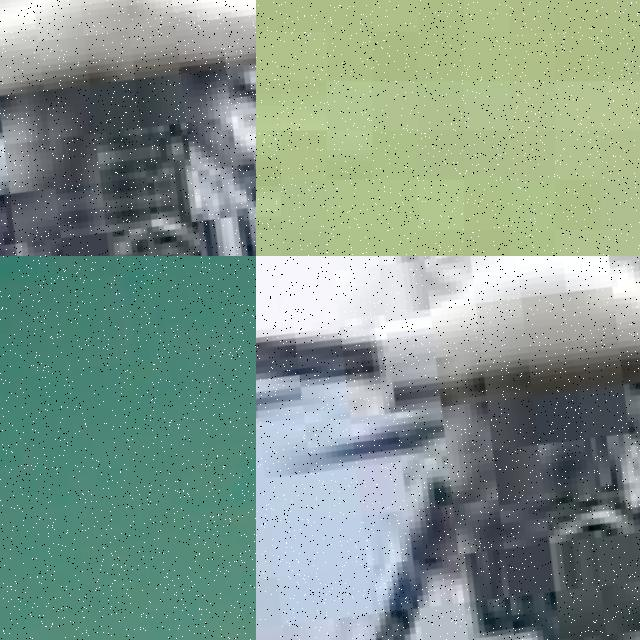drone: (256, 256, 640, 640), (0, 256, 256, 640), (0, 0, 256, 256)
